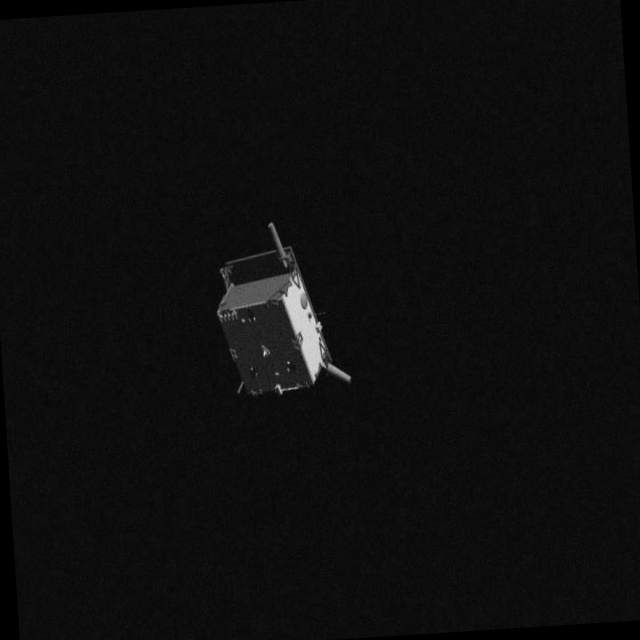medium_debris: (207, 204, 365, 431)
